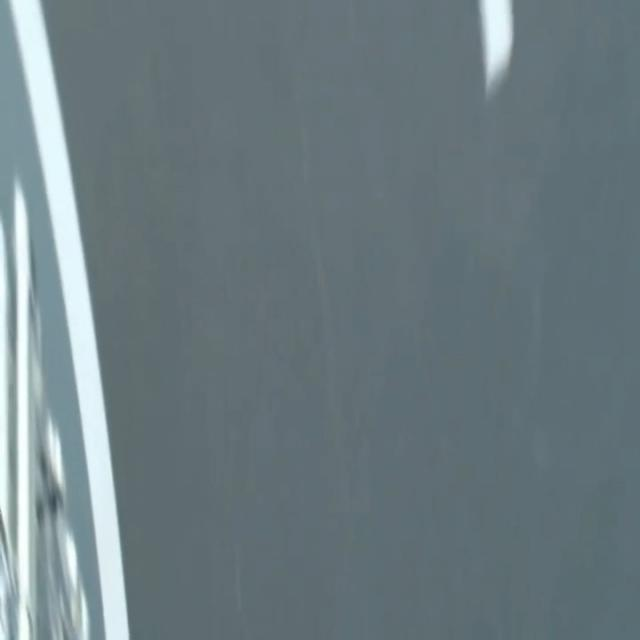center: (478, 0, 513, 95)
left: (10, 0, 129, 639)
